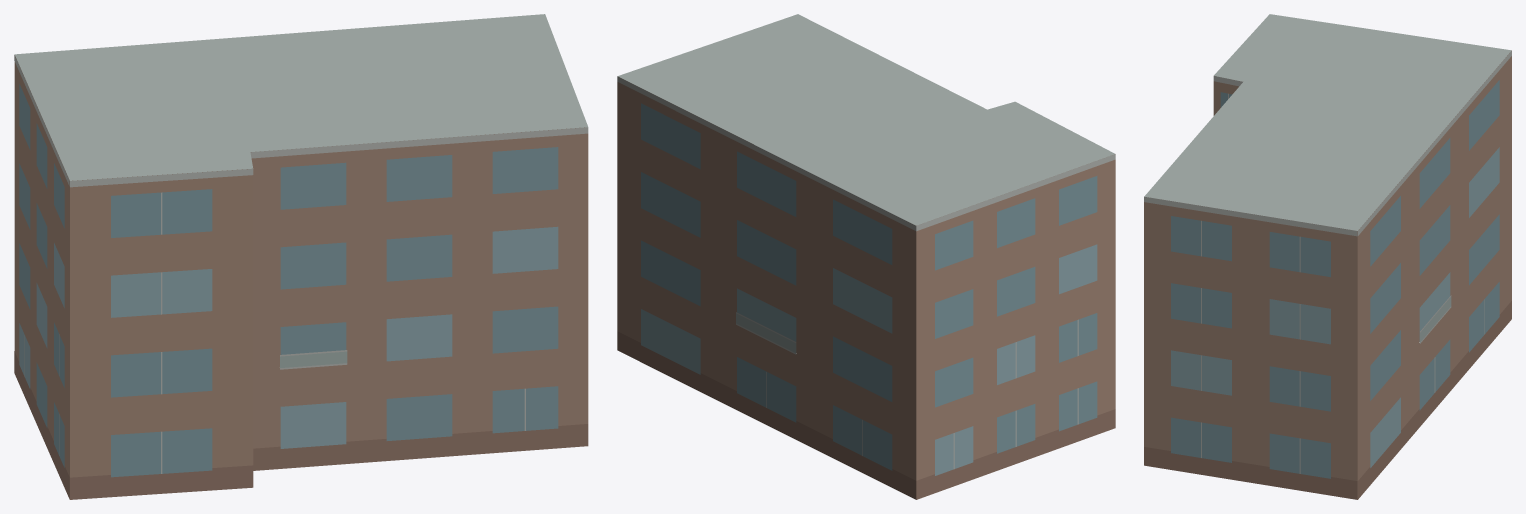
File: survey-upis-32710386.glb
The picture shows the model from 3 angles, left to right: view 1: azimuth 30°, elevation 25°; view 2: azimuth 150°, elevation 25°; view 3: azimuth 270°, elevation 25°; orthographic projection. The views are drawn at different scales.
Visible parts, largest first — view 1: survey-upis-32710386.tmp; view 2: survey-upis-32710386.tmp; view 3: survey-upis-32710386.tmp.
Boxes of the visible parts, x1=… form: survey-upis-32710386.tmp: x1=14, y1=14, x2=588, y2=499; survey-upis-32710386.tmp: x1=617, y1=14, x2=1115, y2=499; survey-upis-32710386.tmp: x1=1144, y1=14, x2=1511, y2=499.
Bounding box in the file's own units: 20.95 × 12.1 × 15.01.
